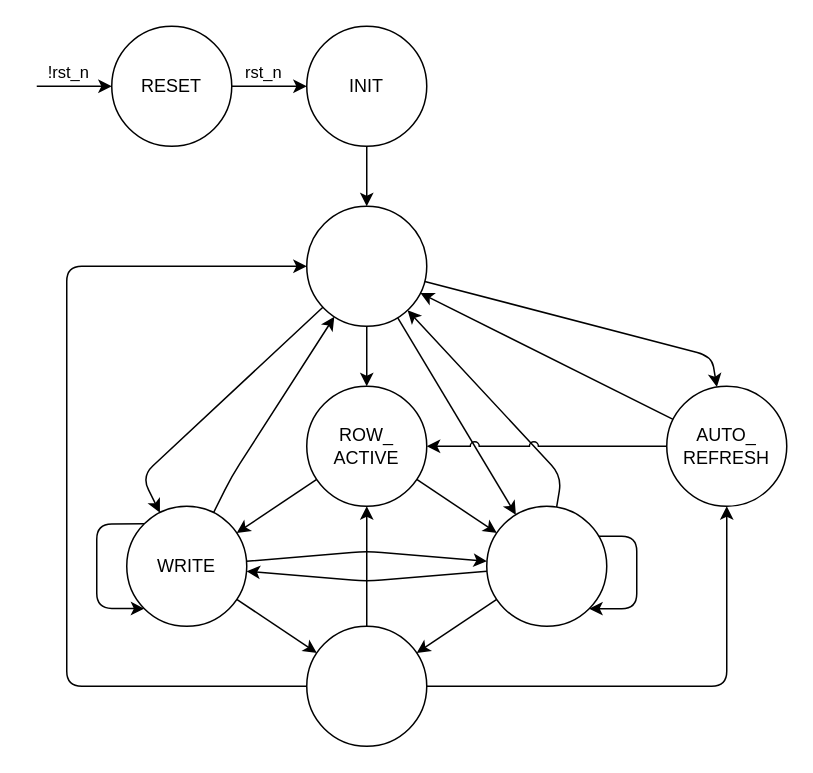
The diagram is 813 pixels wide and 773 high, and some of its shapes have lost their labels. The box of each missing label's shape, as (x1, y1, x2, y2) in pixels:
IDLE: (305, 205, 427, 326)
PRECHARGE: (305, 625, 427, 746)
READ: (485, 505, 607, 626)
